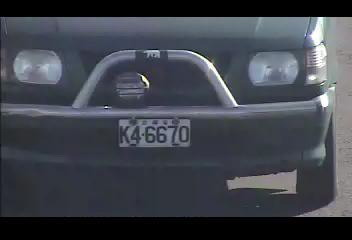plate: (117, 117, 191, 148)
